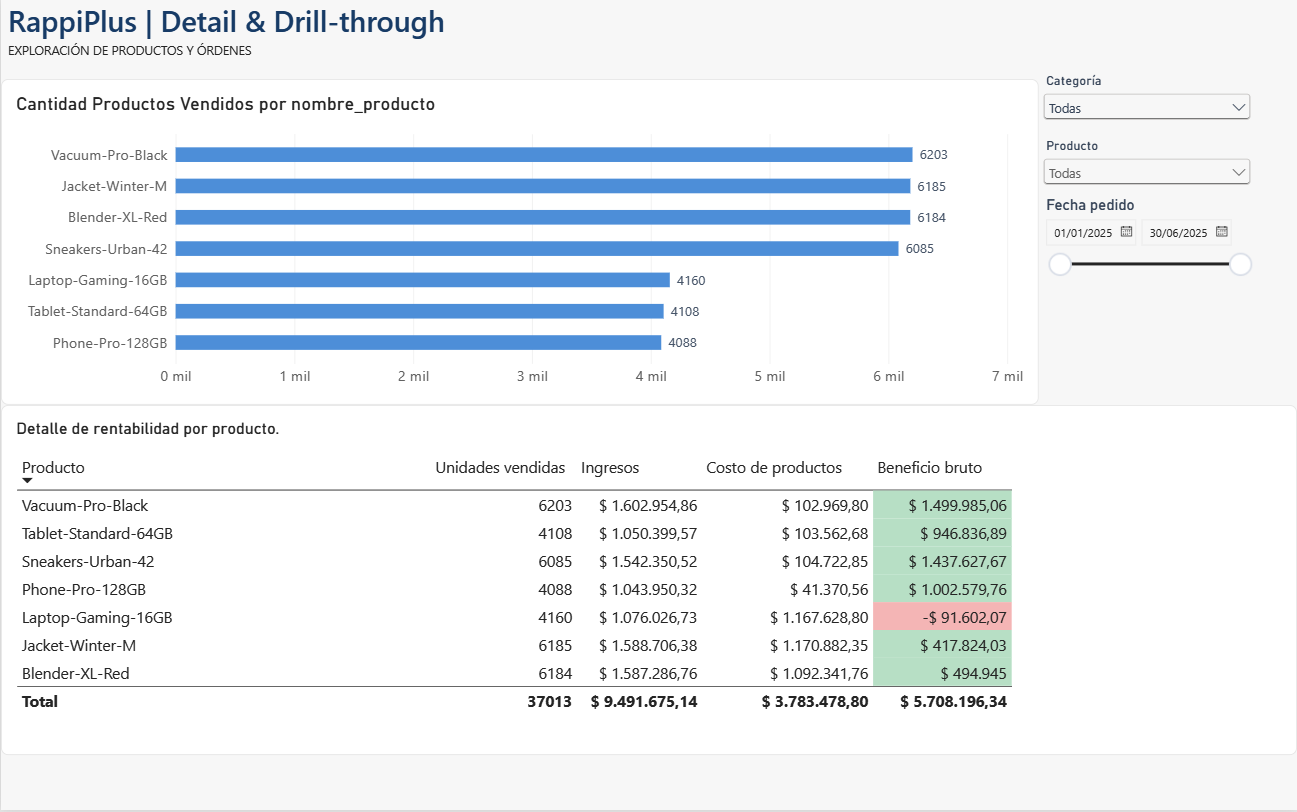

This screenshot's page, from the dashboard's own definition file:
{"tool":"powerbi","page":{"name":"Detail & Drill-through","canvas":[1440,900],"ordinal":1},"visuals":[{"type":"textbox","box":[7.8,0,515,58.3],"z":0},{"type":"textbox","box":[7.8,45.6,288.9,26.7],"z":1000},{"type":"clusteredBarChart","fields":{"Category":["catalog_clean.nombre_producto"],"Y":["orders_clean.Cantidad Productos Vendidos"]},"box":[0,87.5,1088.8,362.5],"z":2000},{"type":"tableEx","title":"Detalle de rentabilidad por producto.","fields":{"Values":["orders_clean.nombre_producto","Sum(orders_clean.cantidad)","orders_clean.Ingresos Totales","orders_clean.Costo Total Productos","orders_clean.Profit Bruto Productos"]},"box":[0,450,1088.8,370],"z":3000},{"type":"slicer","title":"Producto","fields":{"Values":["catalog_clean.categoria_producto"]},"box":[1088.8,87.5,240,65],"z":4000},{"type":"slicer","fields":{"Values":["catalog_clean.nombre_producto"]},"box":[1088.8,152.5,240,65],"z":5000},{"type":"slicer","fields":{"Values":["dim_fecha.Date"]},"box":[1088.8,217.5,240,142.5],"z":6000}]}

Visuals, with their boxes in screenshot pixels (x1, y1, x2, y2), scaled from the page's 1440x900 canvas onto the 1297x812 screenshot:
textbox: <region>7, 0, 471, 53</region>
textbox: <region>7, 41, 267, 65</region>
clusteredBarChart - catalog_clean.nombre_producto x orders_clean.Cantidad Productos Vendidos: <region>0, 79, 981, 406</region>
"Detalle de rentabilidad por producto." tableEx: <region>0, 406, 981, 740</region>
"Producto" slicer: <region>981, 79, 1197, 138</region>
slicer - catalog_clean.nombre_producto: <region>981, 138, 1197, 196</region>
slicer - dim_fecha.Date: <region>981, 196, 1197, 325</region>
